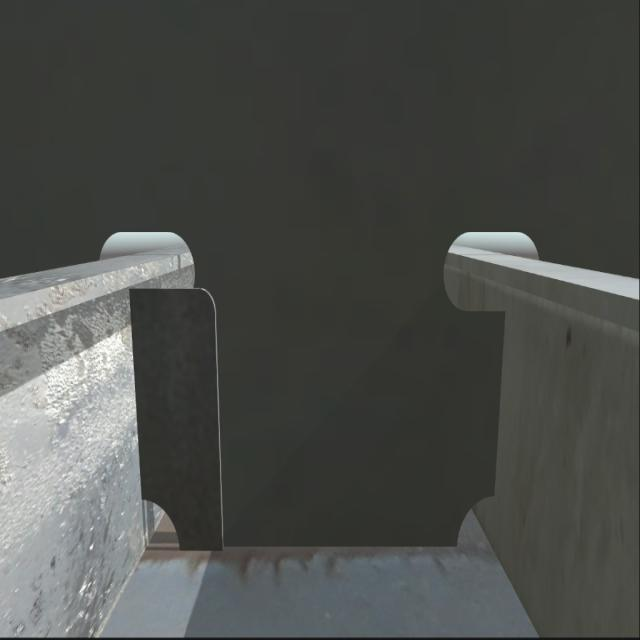fillet_hole: (457, 492, 493, 550), (140, 504, 178, 549)
fillet_yong_jeop_jang: (172, 536, 464, 556)
longi_yong_jeop_jang: (127, 279, 145, 508), (489, 311, 510, 501)
plate_CP05: (137, 289, 217, 553)
